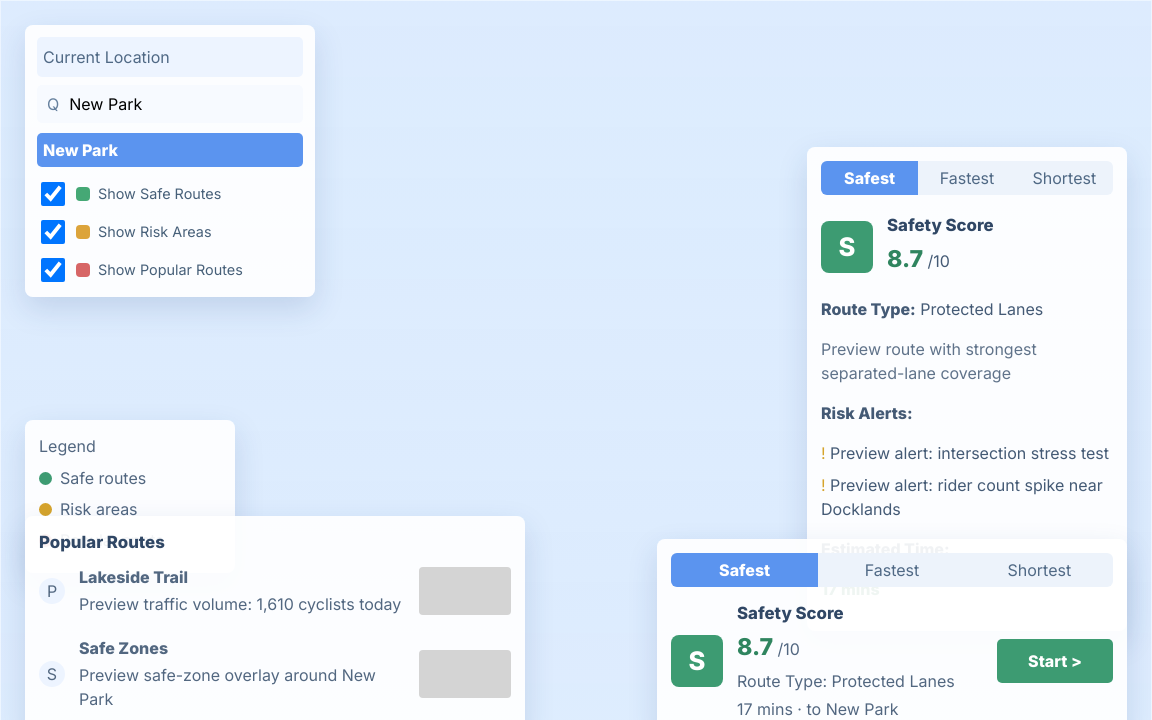
Test: DevPlannerMapPanel › switches route mode and updates summary
What coordinates should you click on to do the following:
click the 1st button "Fastest"
I would click on:
 (967, 178)
Its box is [918,161,1016,195].
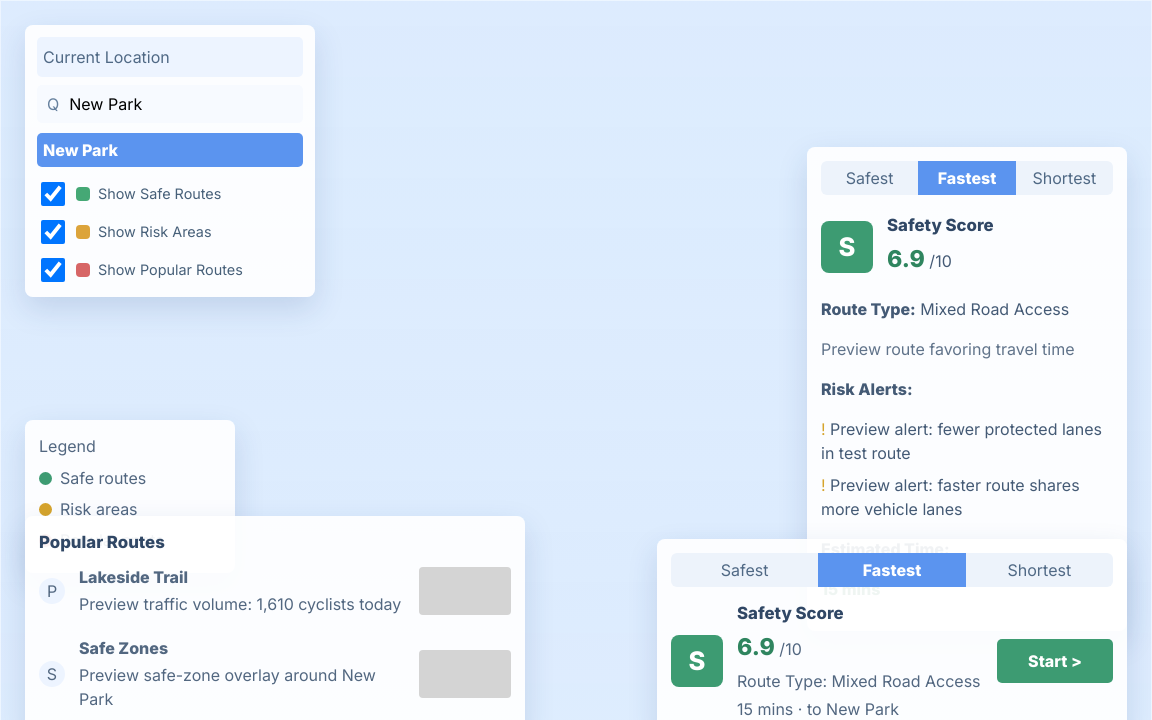
Now the text "Mixed Road Access" is shown, box [916,299,1069,319]
Now the text "15 mins" is shown, box [821,579,880,599]
